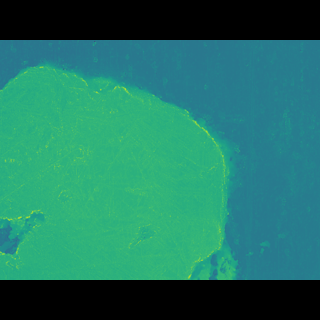Loch: (0, 82, 244, 249)
